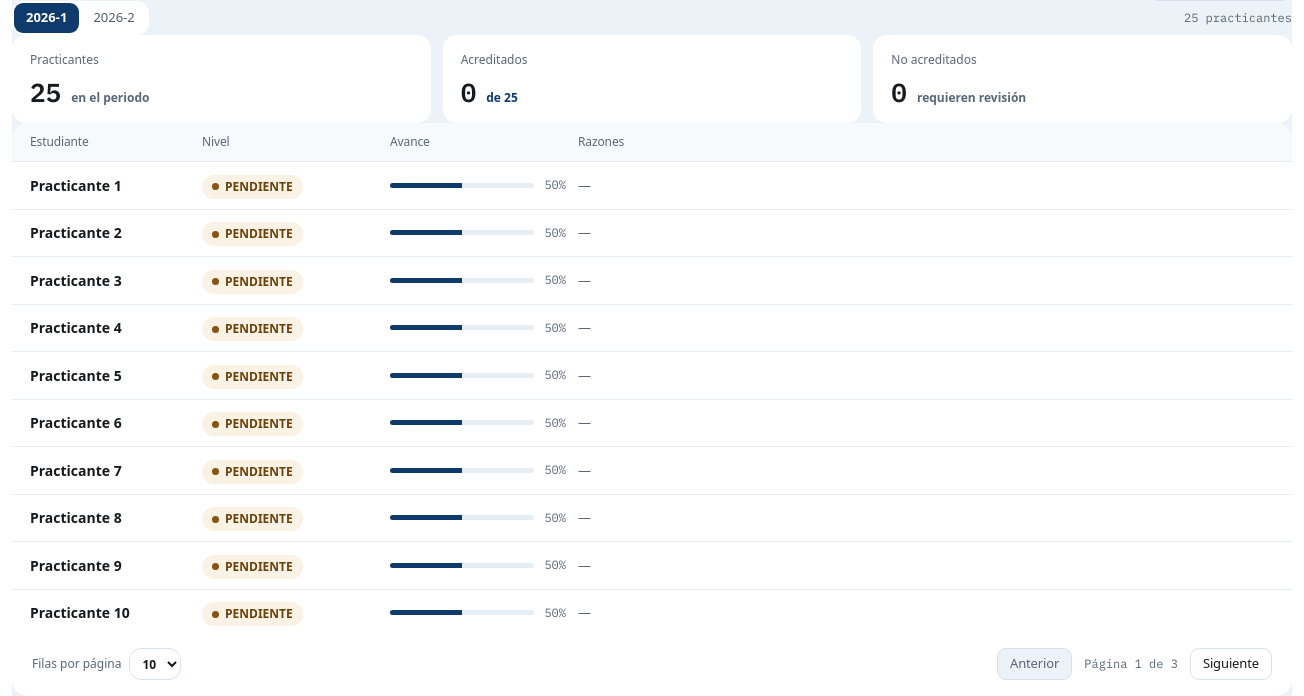
AccreditationPage — filas por página › al cambiar de periodo vuelve a la primera página
The width and height of the screenshot is (1304, 696).
(page scrolled)
Click the button "Siguiente" at (1231, 664), box x1=1190 y1=648 x2=1272 y2=680
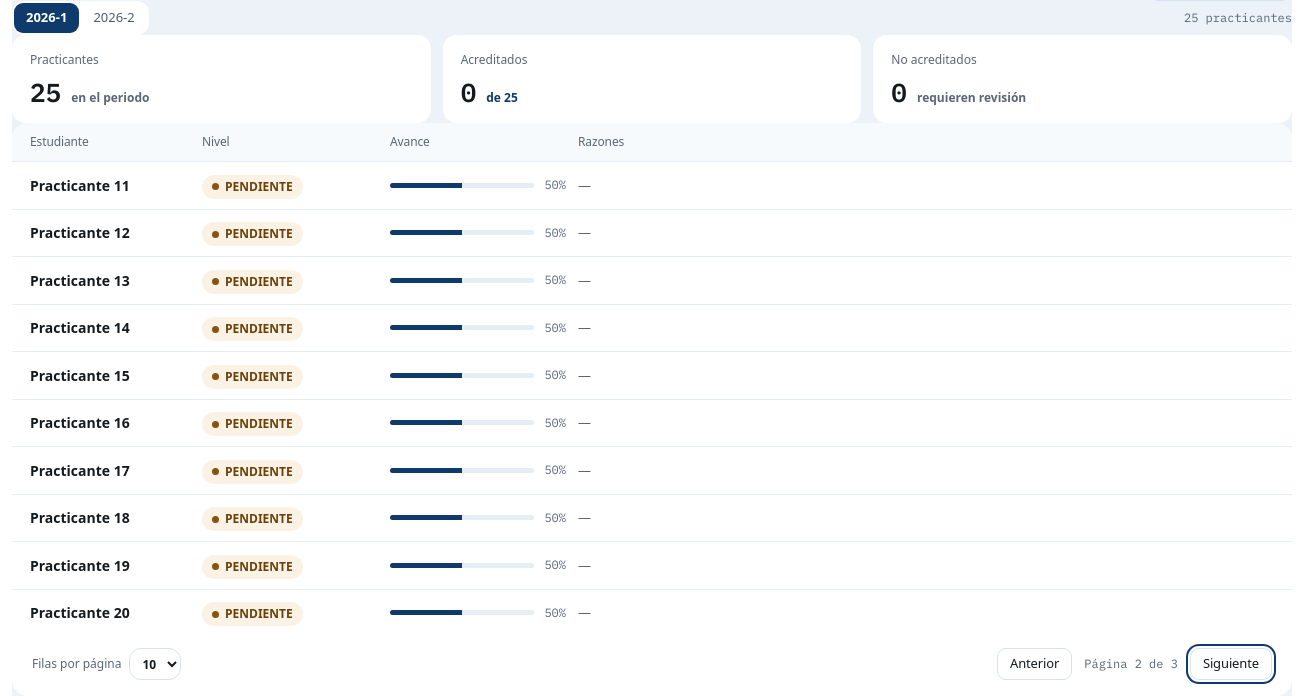
Now the text "Página 2 de 3" is shown, box x1=1084 y1=655 x2=1178 y2=673
Click the button "2026-2" at (114, 18), box x1=81 y1=3 x2=147 y2=33
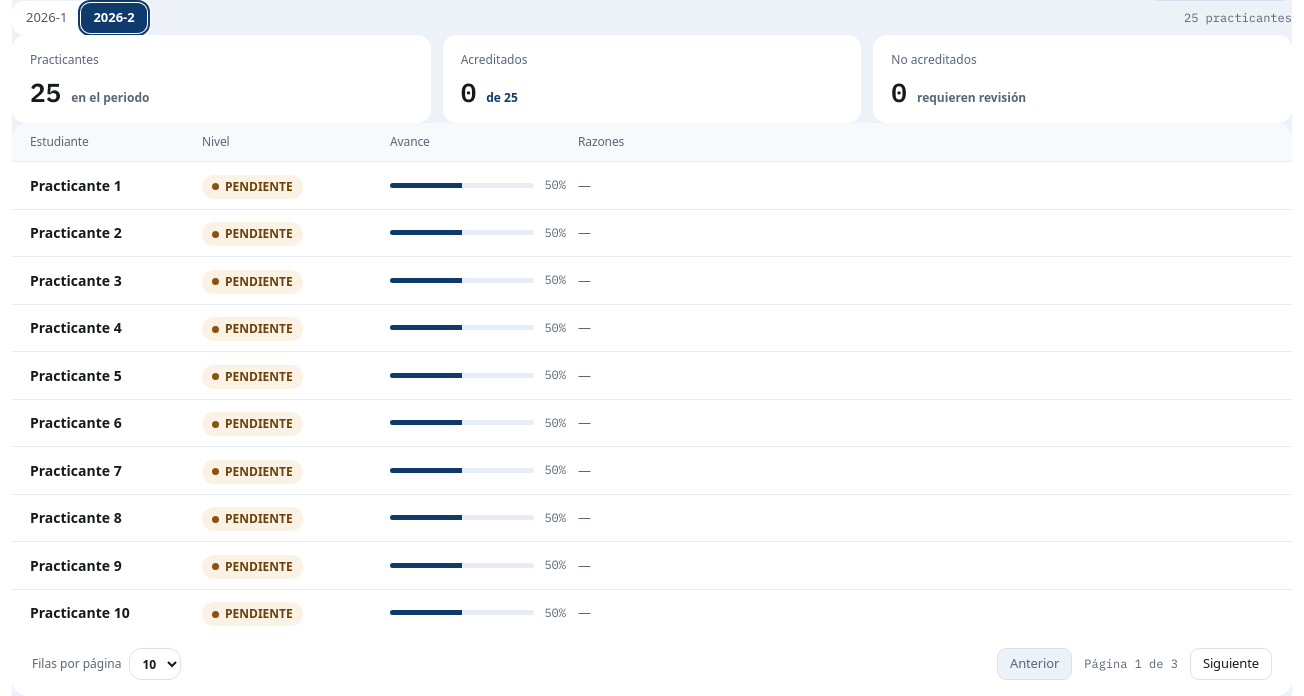
Now the text "Página 1 de 3" is shown, box x1=1084 y1=655 x2=1178 y2=673
